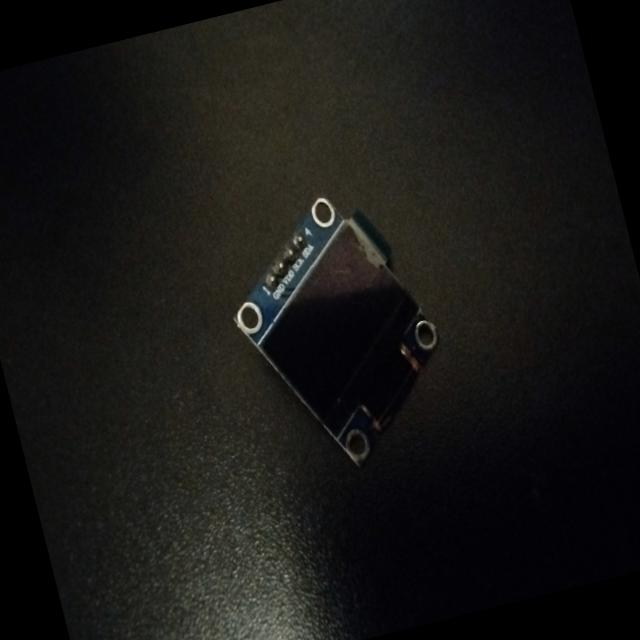oled: (205, 157, 479, 493)
